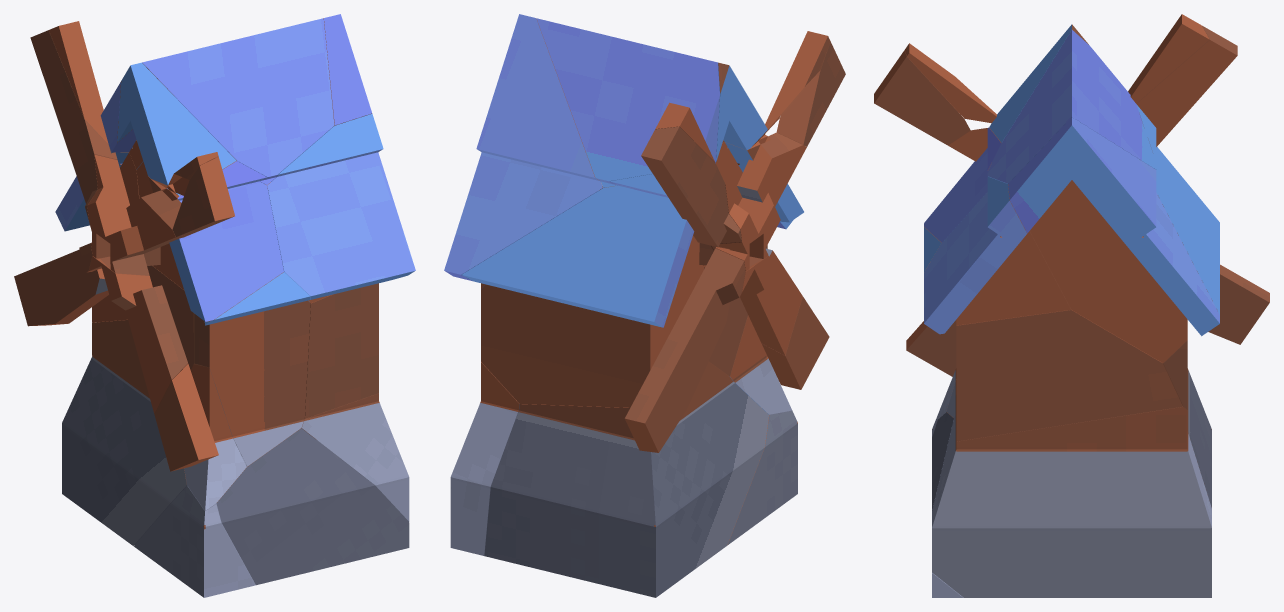
The model's file is unit-mill-pieces.glb.
3 renders of one model, left to right at view 1: azimuth 30°, elevation 25°; view 2: azimuth 150°, elevation 25°; view 3: azimuth 270°, elevation 25°, orthographic.
Visible parts, largest first — view 1: unit-mill_cell.012, unit-mill_cell, unit-mill_cell.009, unit-mill_cell.014, unit-mill_cell.015, unit-mill_cell.013, unit-mill_cell.008, unit-mill_cell.004, unit-mill_cell.002, unit-mill_cell.005, unit-mill_cell.010, unit-mill_cell.017 (+5 smaller); view 2: unit-mill_cell.008, unit-mill_cell.015, unit-mill_cell.007, unit-mill_cell.012, unit-mill_cell.009, unit-mill_cell.010, unit-mill_cell.002, unit-mill_cell.005, unit-mill_cell.017, unit-mill_cell.001, unit-mill_cell.020, unit-mill_cell.006 (+1 smaller); view 3: unit-mill_cell.010, unit-mill_cell.007, unit-mill_cell.004, unit-mill_cell.012, unit-mill_cell.014, unit-mill_cell.008, unit-mill_cell.001, unit-mill_cell.002, unit-mill_cell.009, unit-mill_cell.015, unit-mill_cell.006, unit-mill_cell (+1 smaller).
Boxes of the visible parts, left/top/right/bottom form: unit-mill_cell.012: left=48, top=18, right=334, bottom=185; unit-mill_cell: left=216, top=428, right=409, bottom=585; unit-mill_cell.009: left=87, top=154, right=283, bottom=321; unit-mill_cell.014: left=267, top=114, right=415, bottom=303; unit-mill_cell.015: left=62, top=320, right=186, bottom=545; unit-mill_cell.013: left=193, top=272, right=310, bottom=466; unit-mill_cell.008: left=14, top=30, right=139, bottom=326; unit-mill_cell.004: left=304, top=283, right=378, bottom=418; unit-mill_cell.002: left=117, top=62, right=236, bottom=195; unit-mill_cell.005: left=133, top=485, right=255, bottom=597; unit-mill_cell.010: left=301, top=393, right=409, bottom=521; unit-mill_cell.017: left=89, top=256, right=187, bottom=413; unit-mill_cell.008: left=461, top=126, right=745, bottom=452; unit-mill_cell.015: left=484, top=362, right=768, bottom=597; unit-mill_cell.007: left=444, top=14, right=606, bottom=289; unit-mill_cell.012: left=536, top=18, right=719, bottom=187; unit-mill_cell.009: left=704, top=132, right=806, bottom=271; unit-mill_cell.010: left=450, top=362, right=519, bottom=555; unit-mill_cell.002: left=716, top=31, right=830, bottom=161; unit-mill_cell.005: left=727, top=410, right=797, bottom=545; unit-mill_cell.017: left=740, top=248, right=802, bottom=355; unit-mill_cell.001: left=776, top=41, right=845, bottom=146; unit-mill_cell.020: left=729, top=315, right=792, bottom=414; unit-mill_cell.006: left=762, top=296, right=829, bottom=389; unit-mill_cell.010: left=932, top=406, right=1211, bottom=597; unit-mill_cell.007: left=1008, top=117, right=1219, bottom=362; unit-mill_cell.004: left=956, top=309, right=1182, bottom=441; unit-mill_cell.012: left=987, top=14, right=1209, bottom=183; unit-mill_cell.014: left=924, top=176, right=1070, bottom=334; unit-mill_cell.008: left=1128, top=25, right=1269, bottom=410; unit-mill_cell.001: left=874, top=50, right=970, bottom=145; unit-mill_cell.002: left=904, top=24, right=1089, bottom=142; unit-mill_cell.009: left=924, top=127, right=1001, bottom=242; unit-mill_cell.015: left=1187, top=368, right=1211, bottom=507; unit-mill_cell.006: left=906, top=320, right=956, bottom=376; unit-mill_cell: left=932, top=412, right=963, bottom=597.
Size of the model in its own units: 2.1 by 4.09 by 3.08.
1 material, 1 textured.
